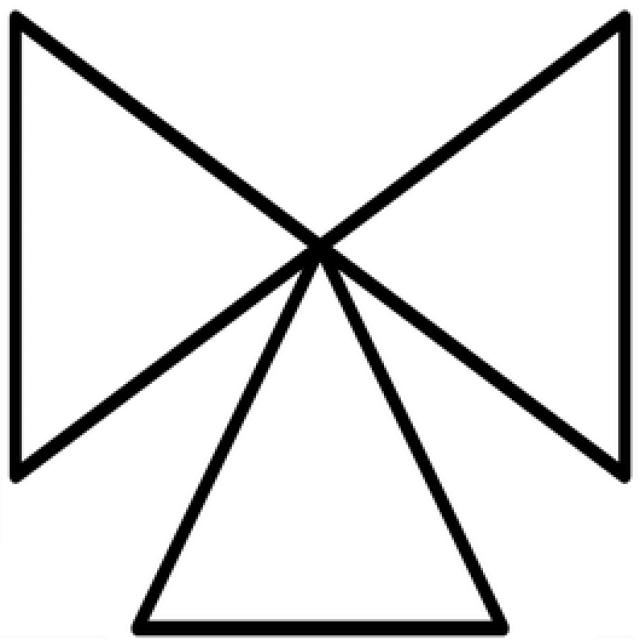3-way Valve: (17, 13, 625, 629)
